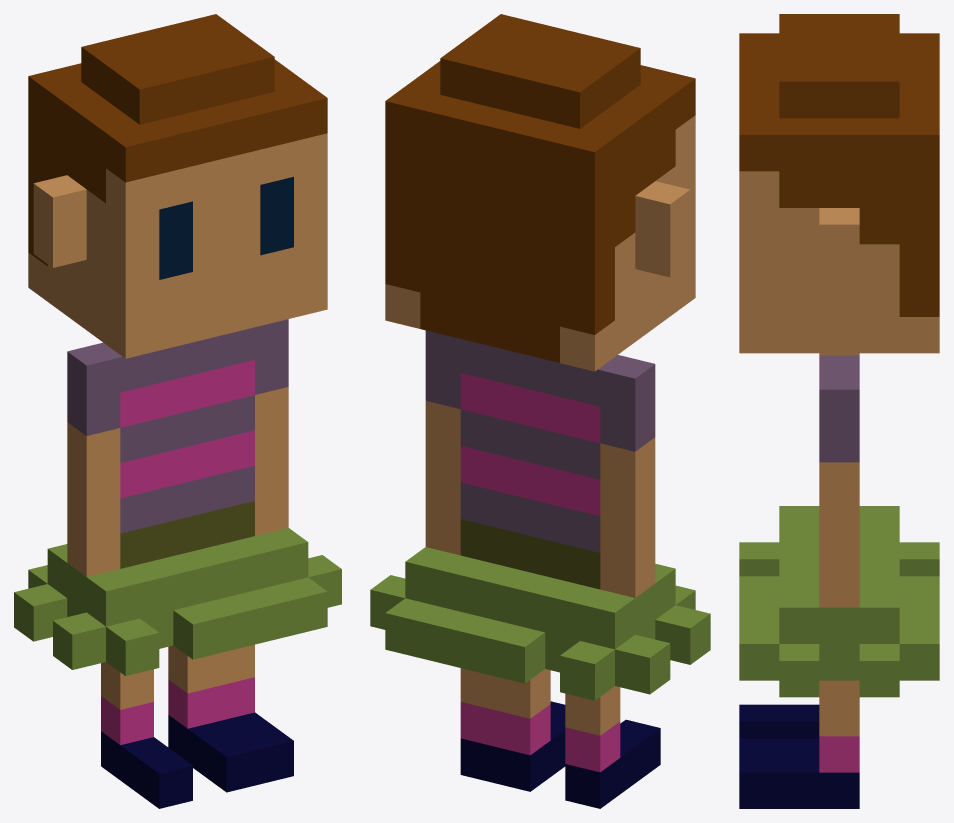
Rendered from Char07.gltf.
3 renders of one model, left to right at view 1: azimuth 30°, elevation 25°; view 2: azimuth 150°, elevation 25°; view 3: azimuth 270°, elevation 25°, orthographic. The views are drawn at different scales.
Parts seen in each view (by area): view 1: Layer.1, Layer.2; view 2: Layer.1, Layer.2; view 3: Layer.1, Layer.2.
Boxes of the visible parts, box(x1,y1,x2,y2) form: Layer.1: box(14, 14, 341, 808); Layer.2: box(168, 585, 293, 792); Layer.1: box(370, 14, 710, 808); Layer.2: box(420, 607, 565, 791); Layer.1: box(739, 14, 939, 808); Layer.2: box(739, 610, 939, 755).
Bounding box in the file's own units: 8 × 20 × 5.
